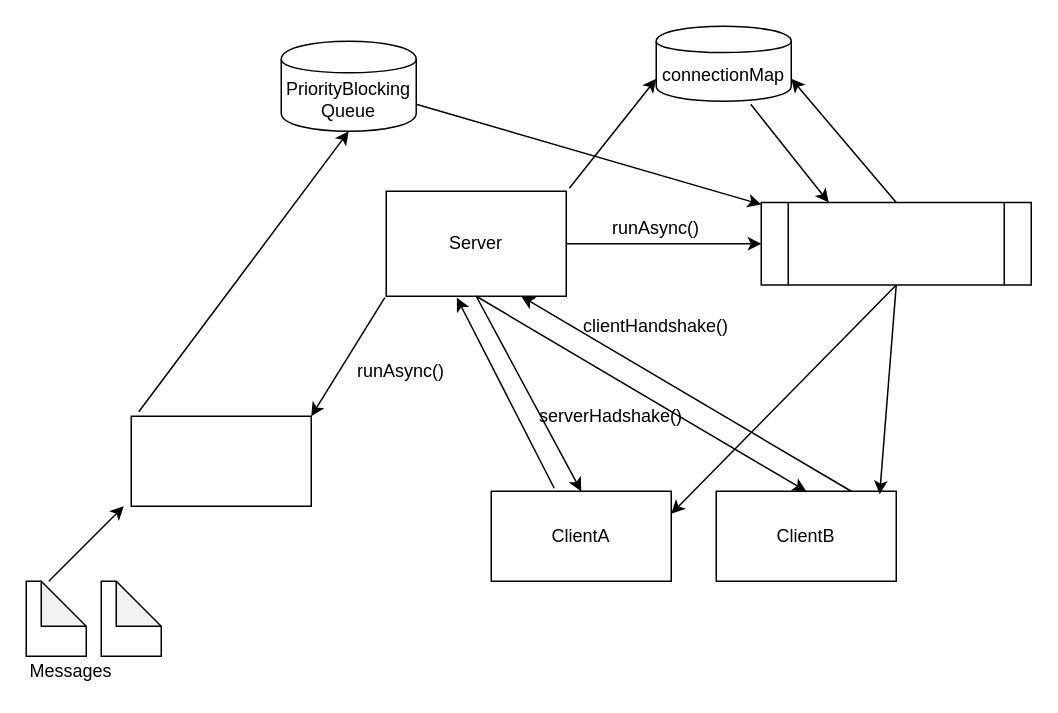
Image size: 1058x713. Some labels were removed from this diagram. The shapes that lost their labels are listed below. From the top down, each one's centre as x and y in pixels, then its label:
At (x=895, y=243): "sendBroadCastMessage()".
At (x=220, y=460): "Generator".
